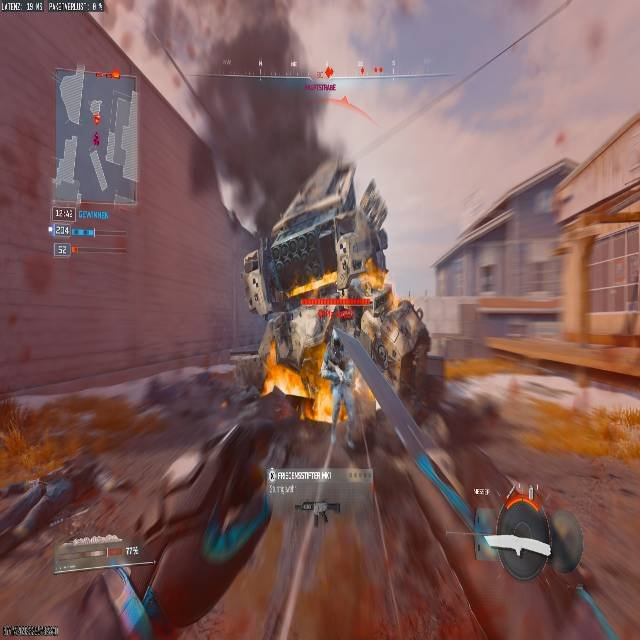player: (251, 202, 429, 419)
